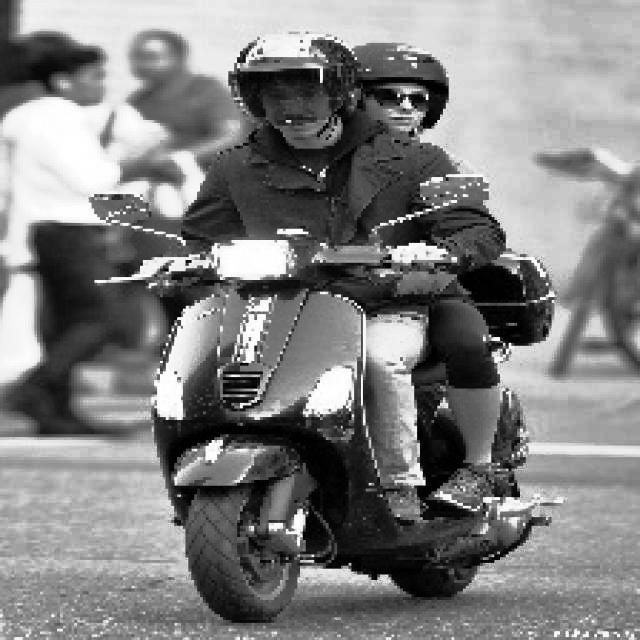Bike: (131, 250, 529, 600)
